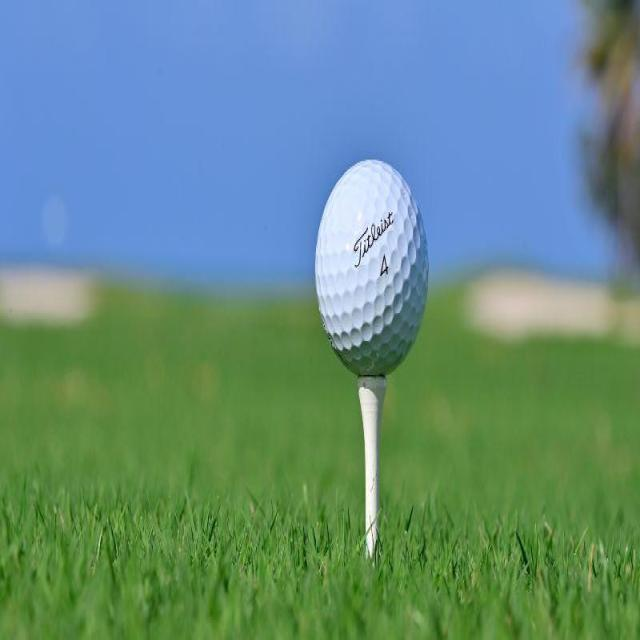ball: (311, 141, 434, 378)
